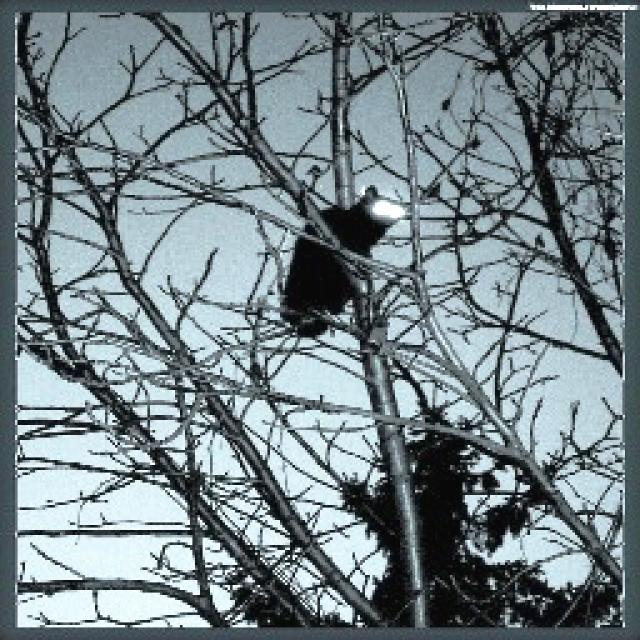cat: (236, 132, 422, 352)
